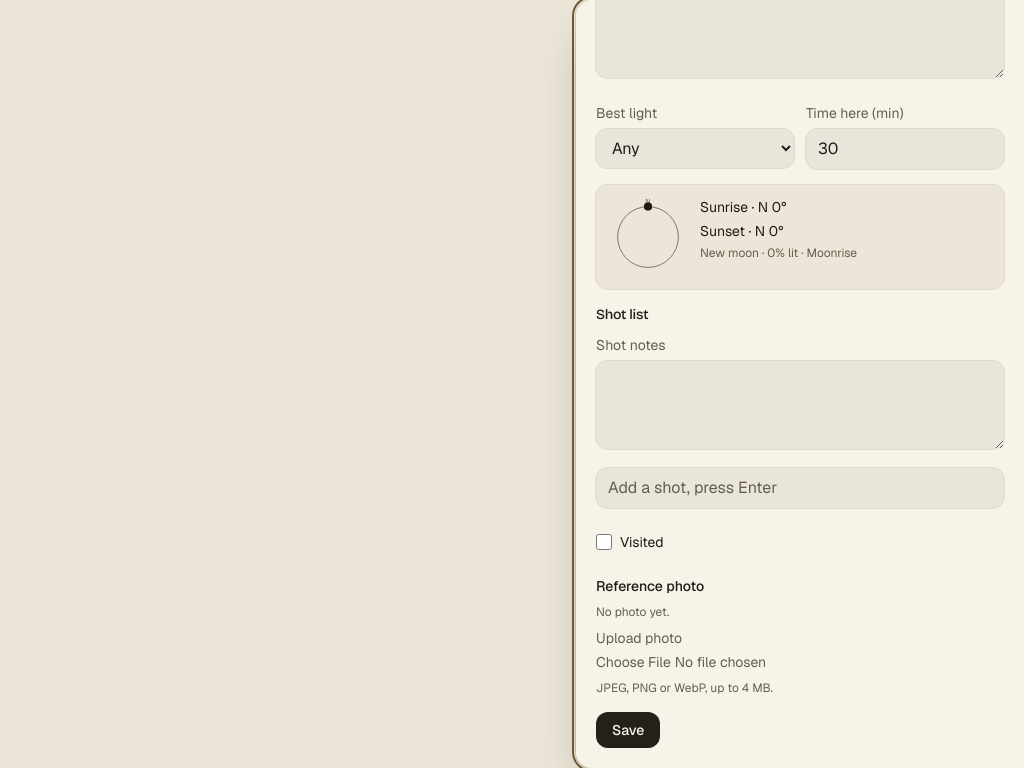
StopDrawer sky card › keeps focus inside the drawer after a failed Save, so Escape still closes it
This screenshot has width=1024, height=768.
(page scrolled)
Click the checkbox labelled "Visited".
click(604, 542)  # box [596, 534, 612, 550]
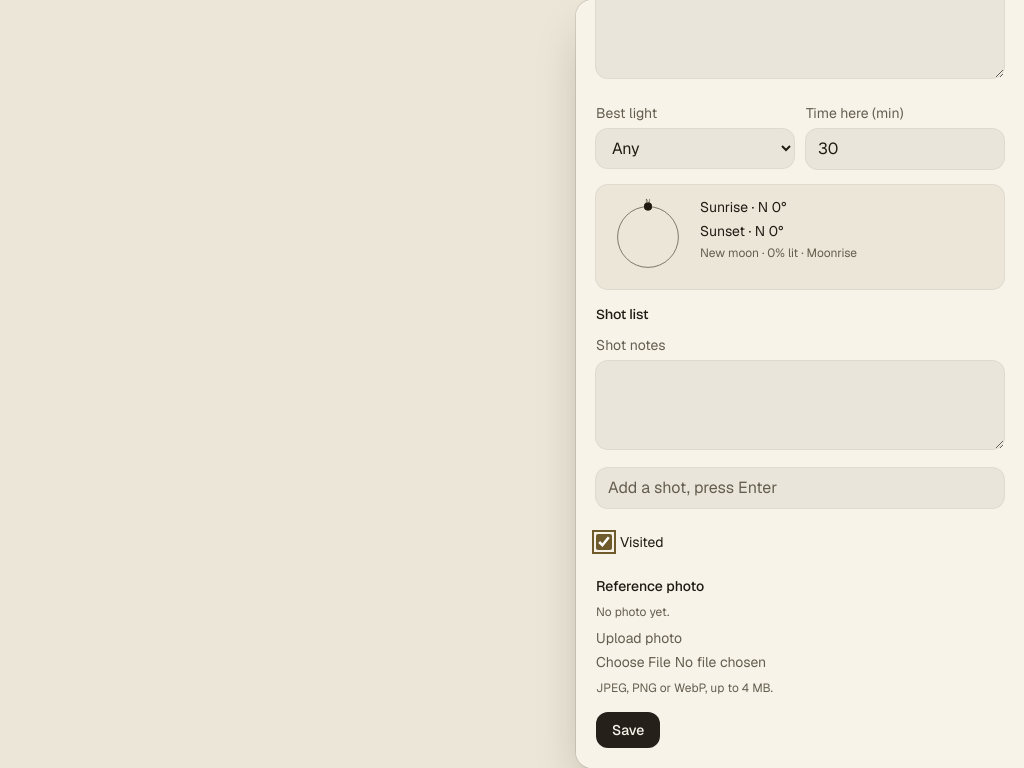
Click the button "Save".
click(628, 730)  # box [596, 712, 660, 748]
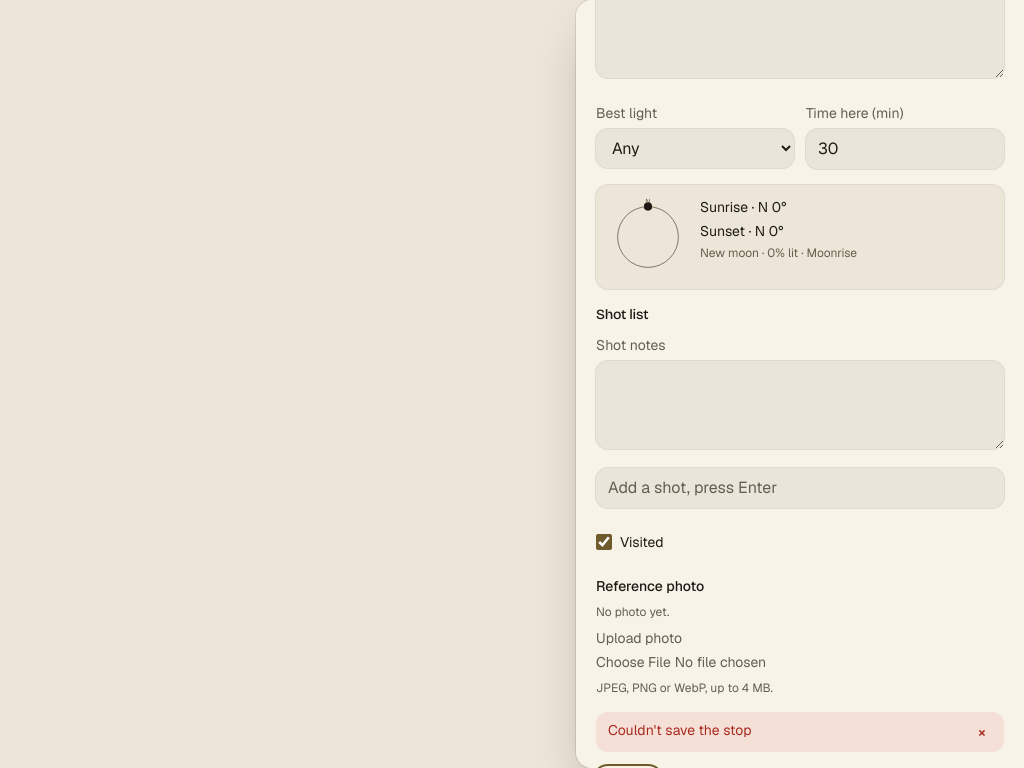
expect the text "Couldn't save the stop" is shown: met, box [608, 720, 752, 740]
